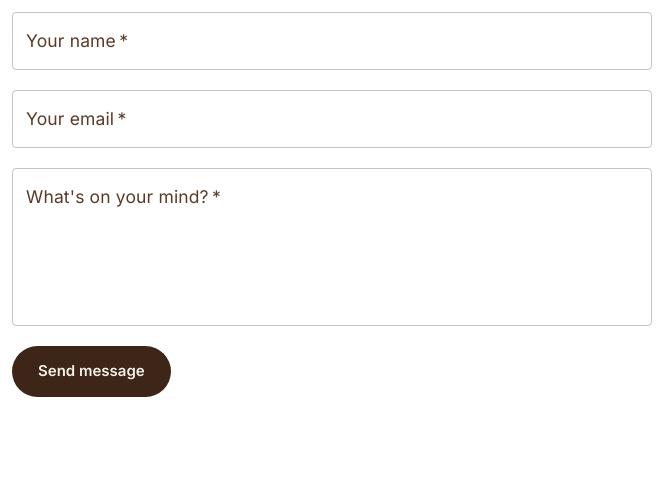
it: ContactForm › shows an error message when the server rejects
The width and height of the screenshot is (669, 486).
Type "Recruiter" into the field labelled "Your name *". click: (332, 41)
box: [12,12,652,70]
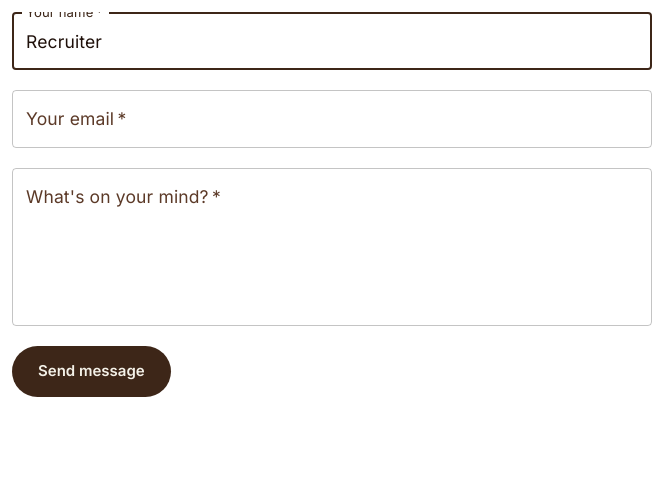
Type "recruiter@example.com" into the field labelled "Your email *". click: (332, 119)
box: [12,90,652,148]
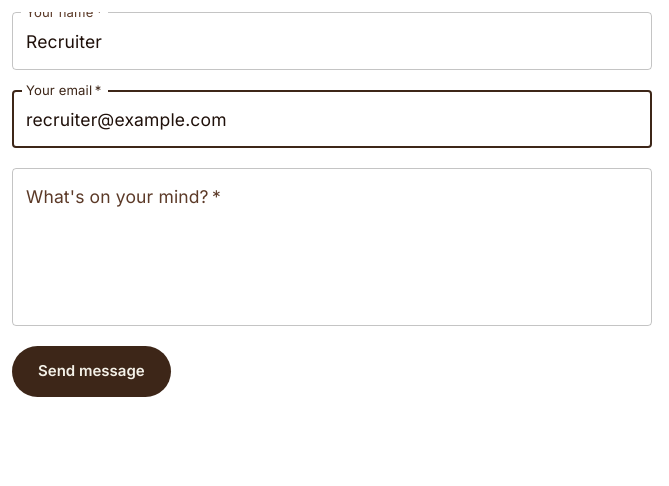
Type "We have an opportunity that fits your background." into the text box labelled "What's on your mind? *". click: (332, 247)
box: [26,185,638,310]
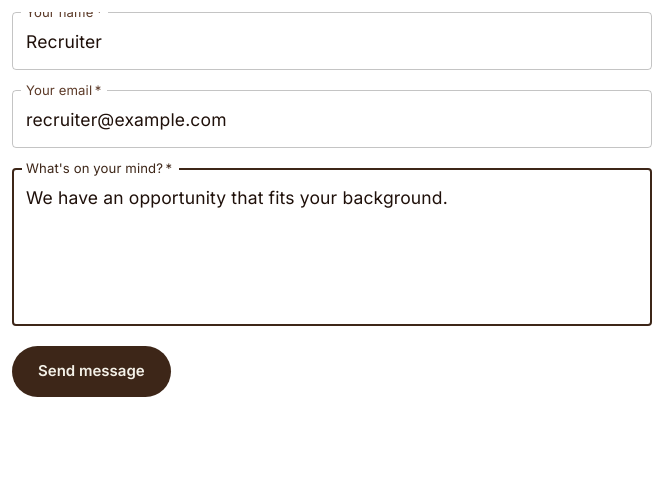
Click the button "Send message". click: (91, 371)
box: [12,346,171,397]
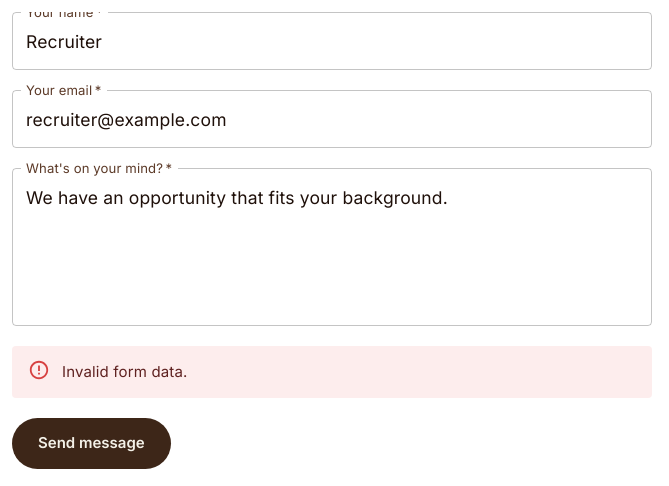
Expected: the text "Invalid form data." is shown, [62,362,188,381]
